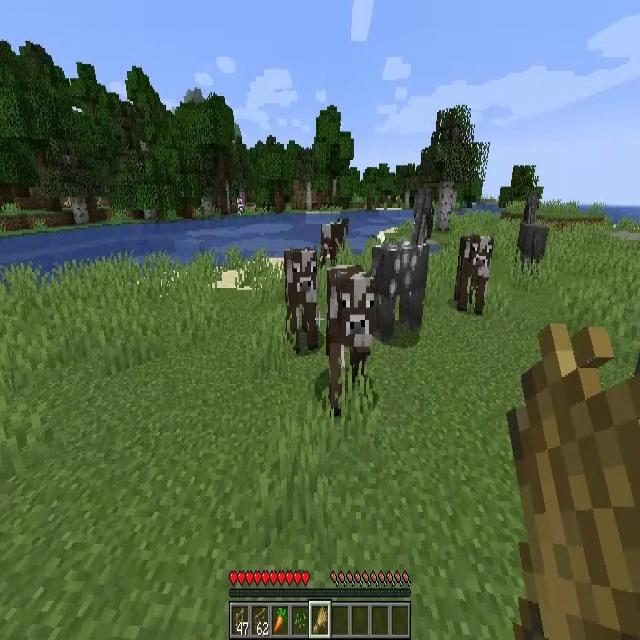cow: (328, 267, 372, 406), (370, 241, 428, 336), (285, 246, 317, 350), (457, 233, 490, 313), (320, 220, 346, 262)
